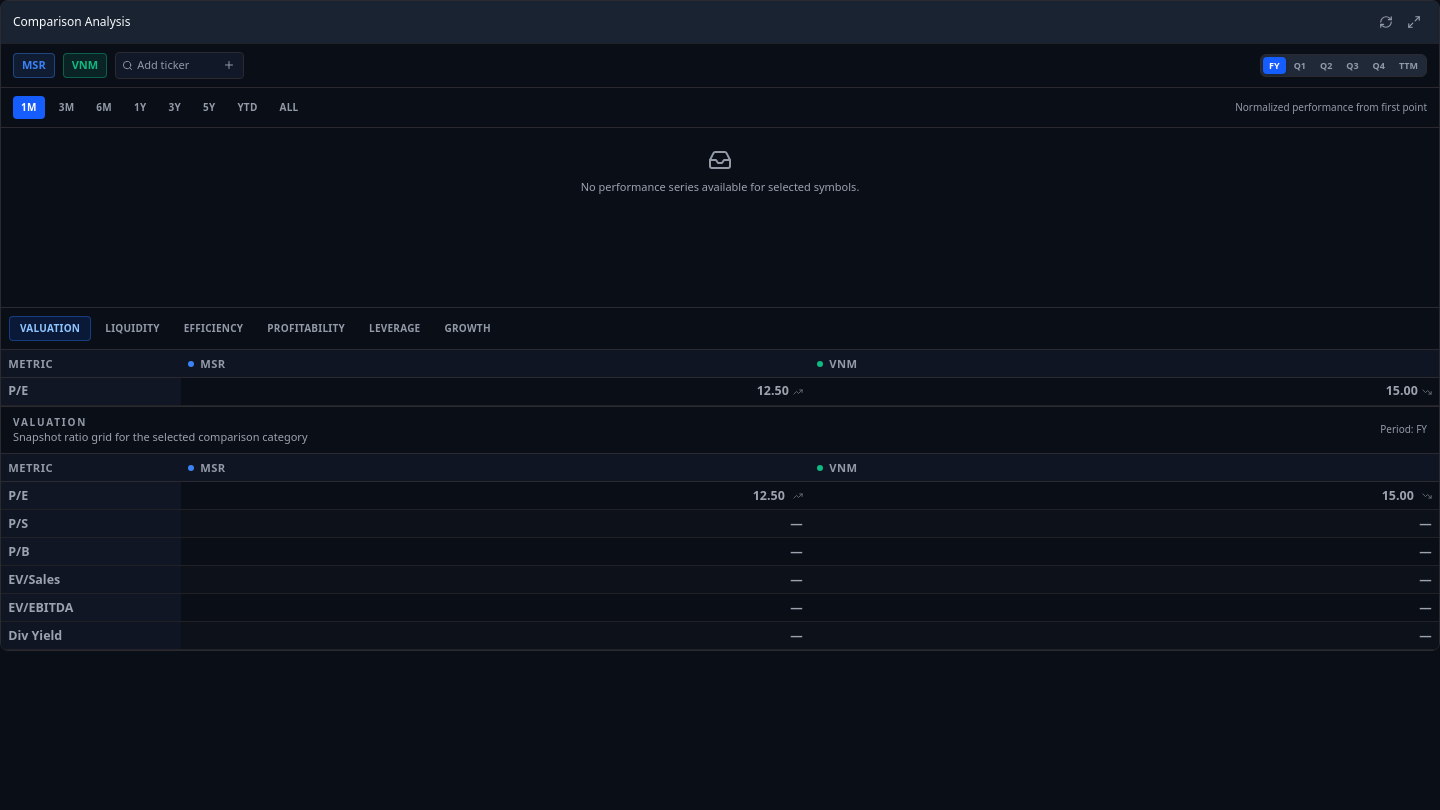
Test: ComparisonAnalysisWidget canonical percent basis (issue #106) › keeps P/E and debt-to-equity values as ratios in both grids
The image size is (1440, 810).
Expected: the cells read "P/E", "12.50", "15.00", in this order, [1,378,181,406]; [181,378,810,406]; [810,378,1439,406]
Click the button "Leverage".
click(395, 328)  # box [359,316,430,340]
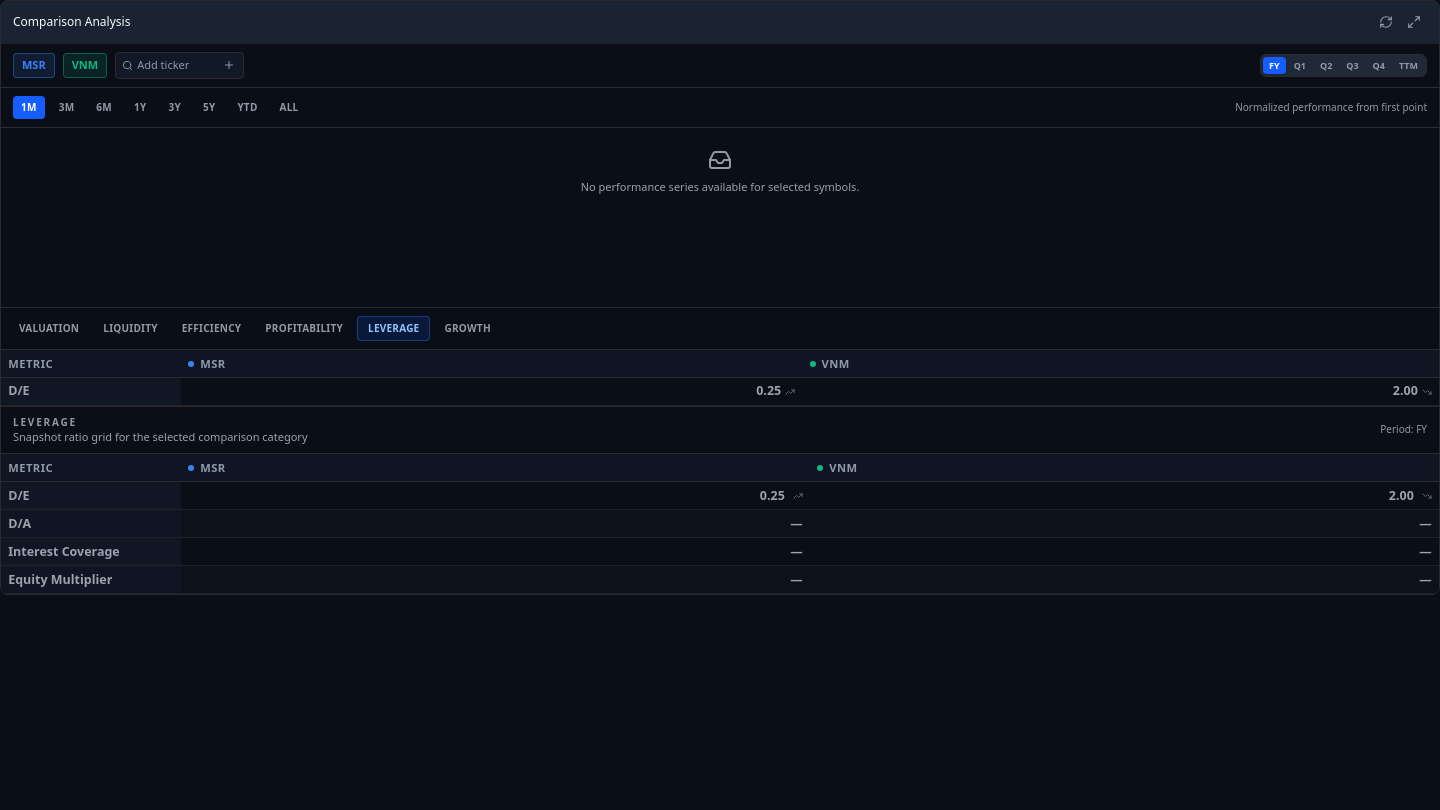
Now the cells read "D/E", "0.25", "2.00", in this order, box [1,378,181,406]; [181,378,802,406]; [802,378,1439,406]
